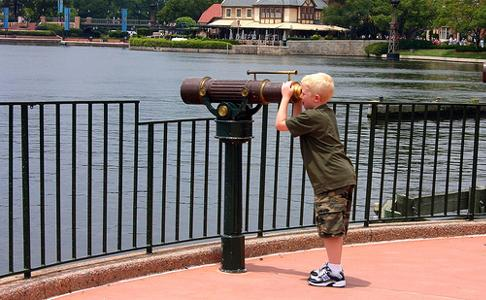person: (278, 74, 356, 289)
